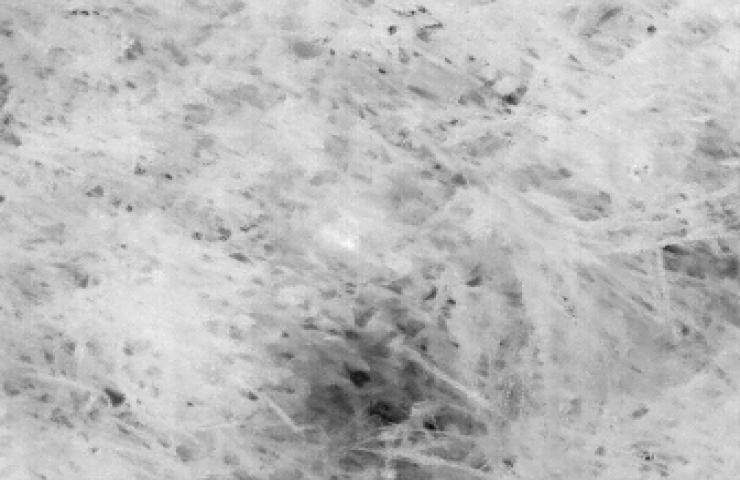landmines: (304, 189, 394, 262)
